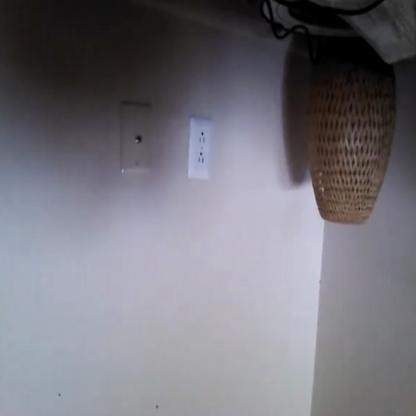OUTLET: (188, 119, 212, 179)
